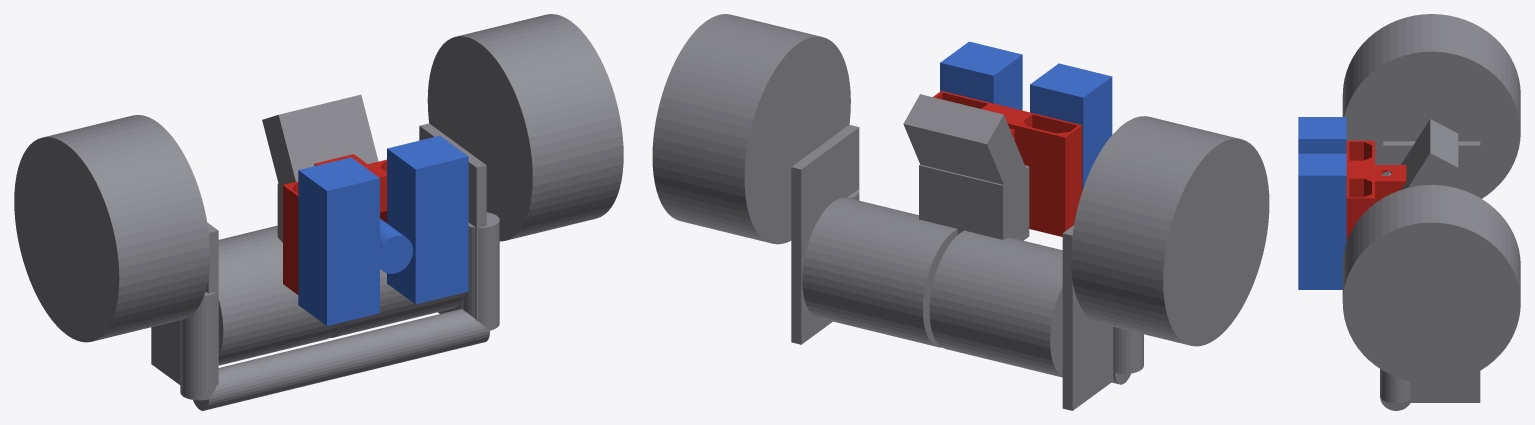
File: rear_assembly_r5.obj
3 renders of one model, left to right at view 1: azimuth 30°, elevation 25°; view 2: azimuth 150°, elevation 25°; view 3: azimuth 270°, elevation 25°, orthographic. The views are drawn at different scales.
Visible parts, largest first — view 1: wheels_schematic, bar_c_schematic, light_placeholder_1, motors_schematic, light_placeholder_0, rear_hanger_schematic, rear_mount, charging_plug_column; view 2: wheels_schematic, motors_schematic, rear_hanger_schematic, rear_mount, light_placeholder_1, light_placeholder_0, bar_c_schematic; view 3: wheels_schematic, light_placeholder_0, rear_hanger_schematic, rear_mount, light_placeholder_1, bar_c_schematic.
Part boxes in pixels (bbox=[...]): wheels_schematic: bbox=[14, 14, 623, 342]; bar_c_schematic: bbox=[180, 212, 499, 410]; light_placeholder_1: bbox=[298, 157, 379, 325]; motors_schematic: bbox=[218, 225, 465, 365]; light_placeholder_0: bbox=[387, 135, 468, 304]; rear_hanger_schematic: bbox=[151, 94, 486, 384]; rear_mount: bbox=[283, 154, 386, 294]; charging_plug_column: bbox=[380, 218, 412, 273]; wheels_schematic: bbox=[652, 14, 1269, 346]; motors_schematic: bbox=[802, 197, 1062, 377]; rear_hanger_schematic: bbox=[791, 94, 1114, 410]; rear_mount: bbox=[933, 91, 1082, 236]; light_placeholder_1: bbox=[1030, 63, 1112, 190]; light_placeholder_0: bbox=[940, 41, 1022, 110]; bar_c_schematic: bbox=[847, 189, 1143, 384]; wheels_schematic: bbox=[1342, 14, 1520, 383]; light_placeholder_0: bbox=[1298, 153, 1346, 289]; rear_hanger_schematic: bbox=[1383, 119, 1480, 402]; rear_mount: bbox=[1346, 140, 1406, 241]; light_placeholder_1: bbox=[1298, 117, 1346, 153]; bar_c_schematic: bbox=[1380, 369, 1412, 410].
Size of the model in its own units: 305 by 160 by 138.
